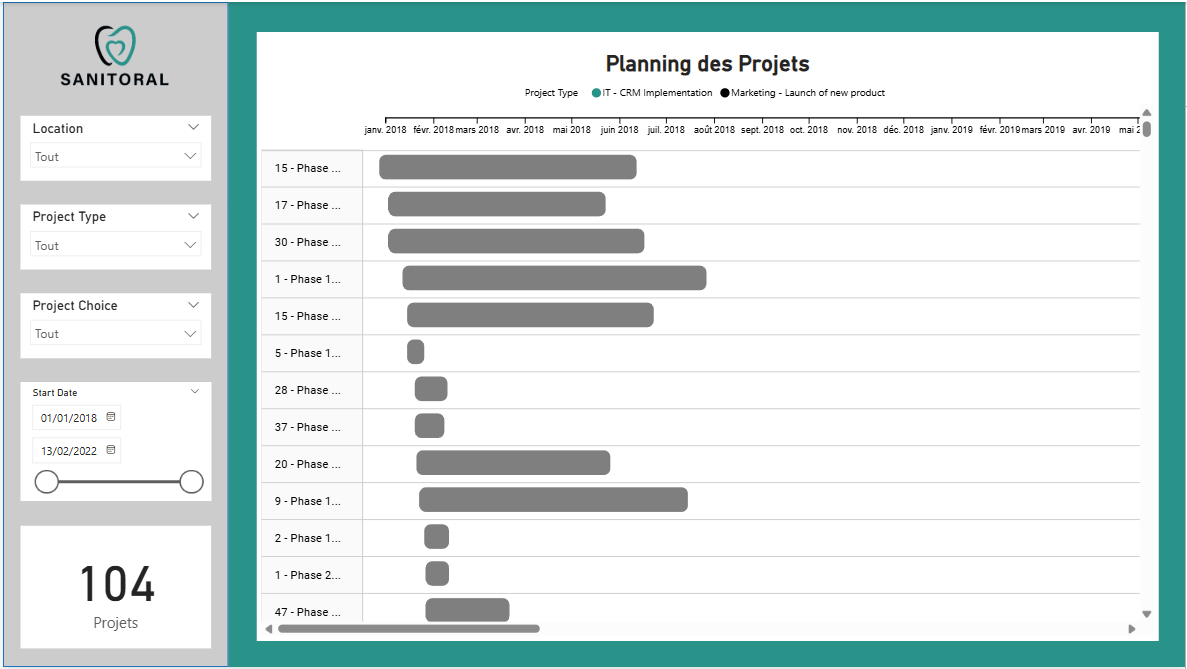

The page's visual inventory and layout, read from the dashboard file:
{"tool":"powerbi","page":{"name":"Planning Projets","canvas":[1280,720],"ordinal":3},"visuals":[{"type":"shape","box":[0,0,244.1,720],"z":0},{"type":"slicer","fields":{"Values":["Country_Profiles.Region","Country_Profiles.Country"]},"box":[18.4,123.8,206.3,70.2],"z":1000},{"type":"image","box":[43,14.9,157.2,91.3],"z":2000},{"type":"slicer","fields":{"Values":["Projects_plans.Project ID","Projects_plans.Phase"]},"box":[18.4,315.2,206.3,70.2],"z":3000},{"type":"slicer","fields":{"Values":["Project type.Project Type"]},"box":[18.4,219.5,206.3,70.2],"z":4000},{"type":"card","fields":{"Values":["Count(Deliverables_status.Project_ID)"]},"box":[18.4,567.2,206.3,132.6],"z":5000},{"type":"slicer","fields":{"Values":["Projects_plans.Start Date"]},"box":[18.4,410.9,206.3,129.1],"z":6000},{"type":"Gantt1448688115699","title":"Planning des Projets","fields":{"StartDate":["Projects_plans.Start Date"],"Duration":["Sum(Projects_plans.Planned_Duration)"],"Task":["Projects_plans.Projet Phase ID"],"Legend":["Project type.Project Type"]},"box":[274.8,32.5,976.4,658.5],"z":7000}]}

Visuals, with their boxes in screenshot pixels (x1, y1, x2, y2), scaled from the page's 1280x720 canvas onto the 1187x669 screenshot:
shape: <region>0, 0, 226, 668</region>
slicer - Country_Profiles.Region x Country_Profiles.Country: <region>17, 115, 208, 180</region>
image: <region>40, 14, 186, 99</region>
slicer - Projects_plans.Project ID x Projects_plans.Phase: <region>17, 293, 208, 358</region>
slicer - Project type.Project Type: <region>17, 204, 208, 269</region>
card - Count(Deliverables_status.Project_ID): <region>17, 527, 208, 650</region>
slicer - Projects_plans.Start Date: <region>17, 382, 208, 502</region>
"Planning des Projets" Gantt1448688115699: <region>255, 30, 1160, 642</region>
